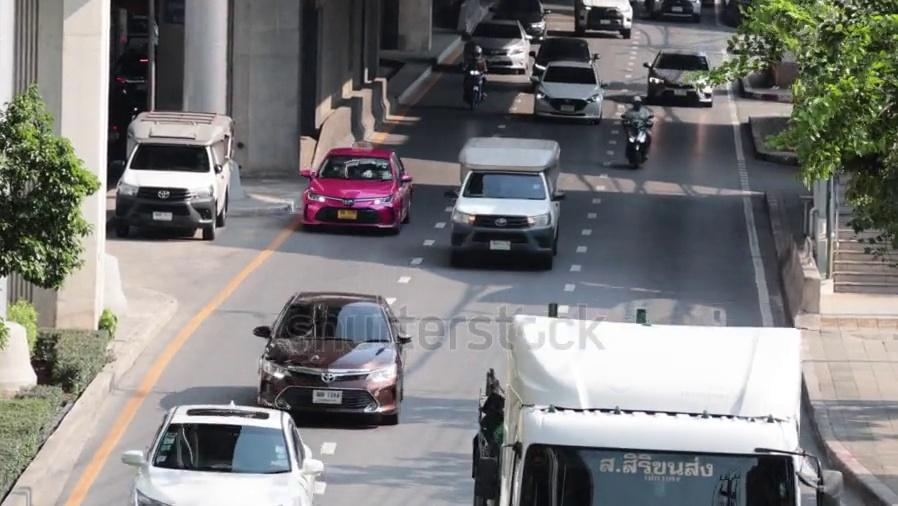rider: (621, 94, 654, 166), (461, 44, 488, 109)
with_helmate: (629, 97, 644, 113), (469, 47, 483, 56)
